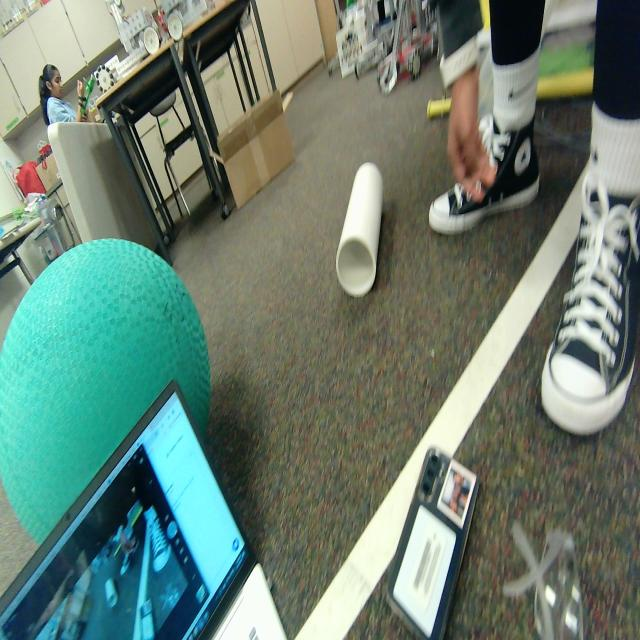algae: (0, 195, 240, 372)
coral: (336, 162, 383, 297)
